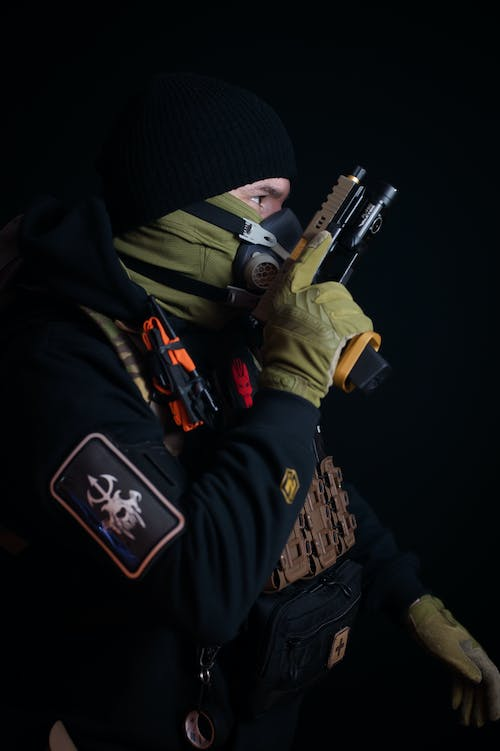gun: (235, 160, 402, 388)
